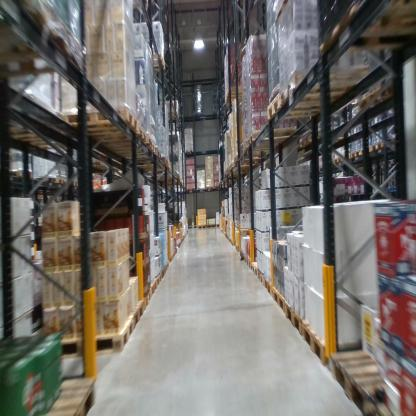pallet: (0, 6, 95, 77), (331, 340, 412, 413), (319, 3, 413, 62), (47, 314, 133, 360), (59, 106, 148, 142), (261, 91, 355, 123), (277, 71, 359, 103), (35, 376, 102, 413), (8, 121, 67, 156), (88, 134, 158, 157), (79, 132, 152, 152), (302, 319, 328, 372), (243, 123, 297, 148), (299, 125, 347, 153), (285, 300, 304, 342), (116, 147, 162, 164), (358, 87, 384, 115), (125, 298, 144, 333), (131, 159, 176, 173), (380, 77, 403, 103), (238, 140, 284, 153), (234, 150, 268, 165), (256, 268, 272, 299), (144, 52, 168, 70), (239, 225, 266, 240), (138, 287, 152, 315), (8, 166, 34, 181), (273, 286, 285, 317), (33, 171, 58, 184), (224, 82, 245, 96), (373, 138, 388, 156), (164, 107, 180, 121), (252, 261, 263, 280), (224, 95, 243, 105), (360, 144, 372, 158), (351, 147, 361, 163), (333, 155, 343, 167), (56, 174, 68, 184), (150, 279, 157, 296), (69, 182, 83, 190), (156, 271, 163, 287), (342, 152, 351, 164), (159, 265, 166, 280), (184, 186, 196, 194), (246, 258, 252, 271), (196, 185, 205, 193), (243, 252, 249, 264), (240, 250, 245, 263), (165, 260, 170, 271), (205, 185, 215, 190), (215, 185, 225, 190), (184, 149, 194, 153), (207, 223, 216, 227), (197, 224, 207, 227), (216, 224, 222, 227)
